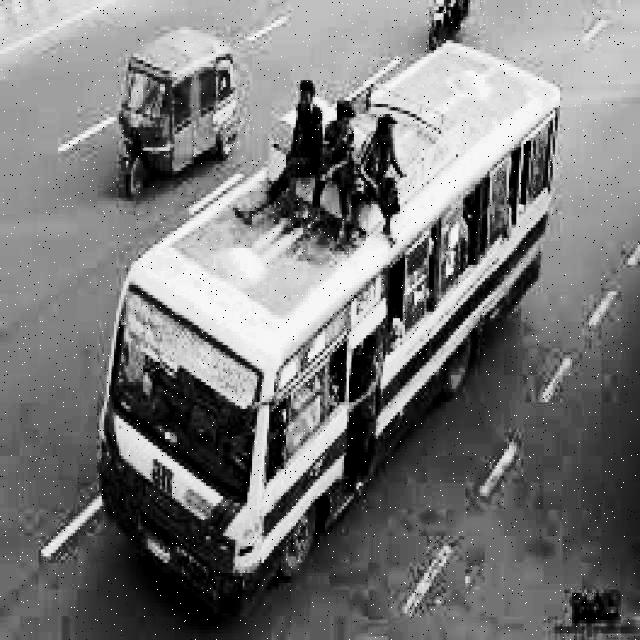Bus: (95, 39, 560, 630)
